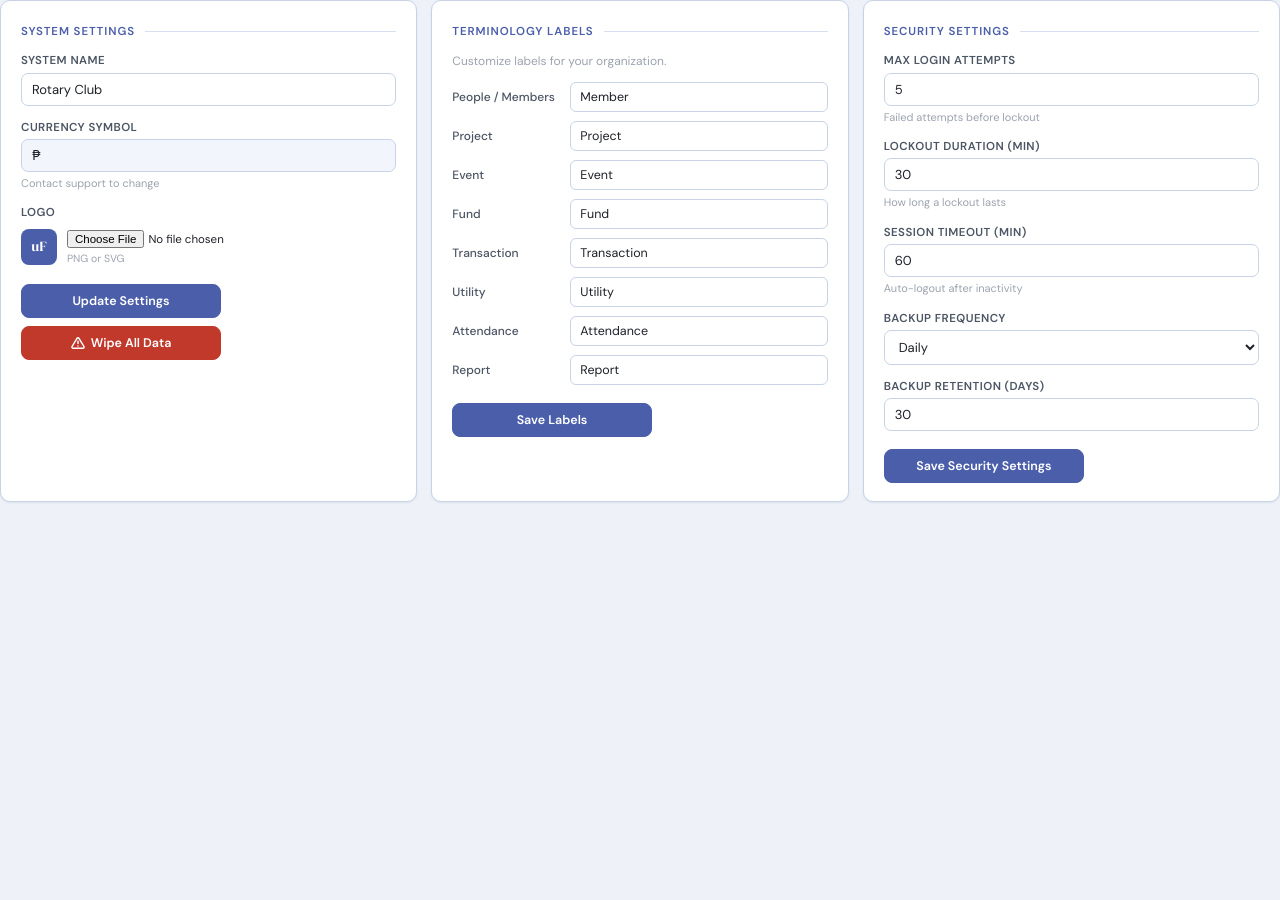
Scenario: Settings › Wipe All Data opens a modal with two options, each ending in feedback
Click the button "Wipe All Data" at (121, 343), box [21, 326, 221, 360]
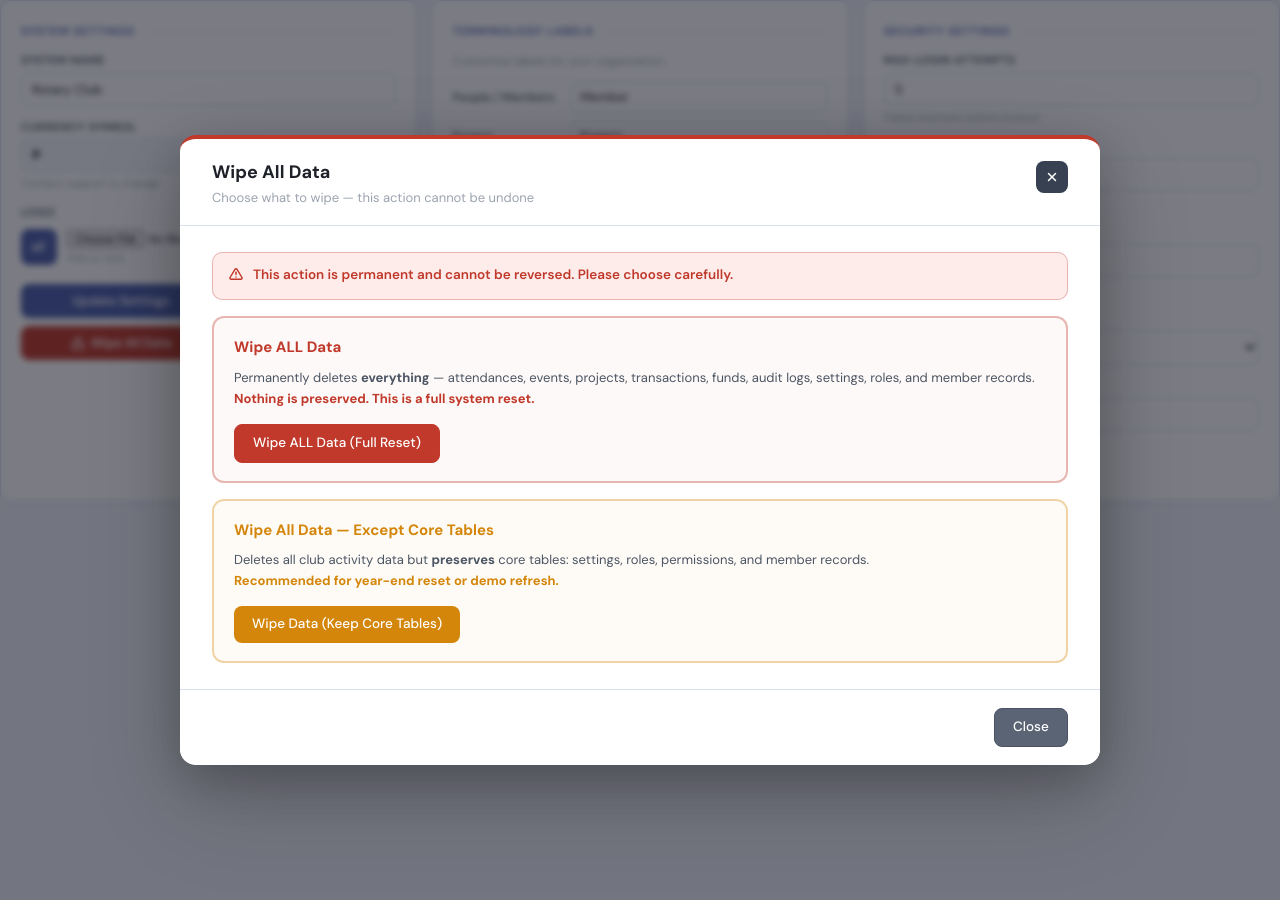
Check: the text "Choose what to wipe — this action cannot be undone" is shown, box [212, 188, 534, 207]
Click the button "Wipe ALL Data (Full Reset)" at (337, 443), box [234, 424, 440, 463]
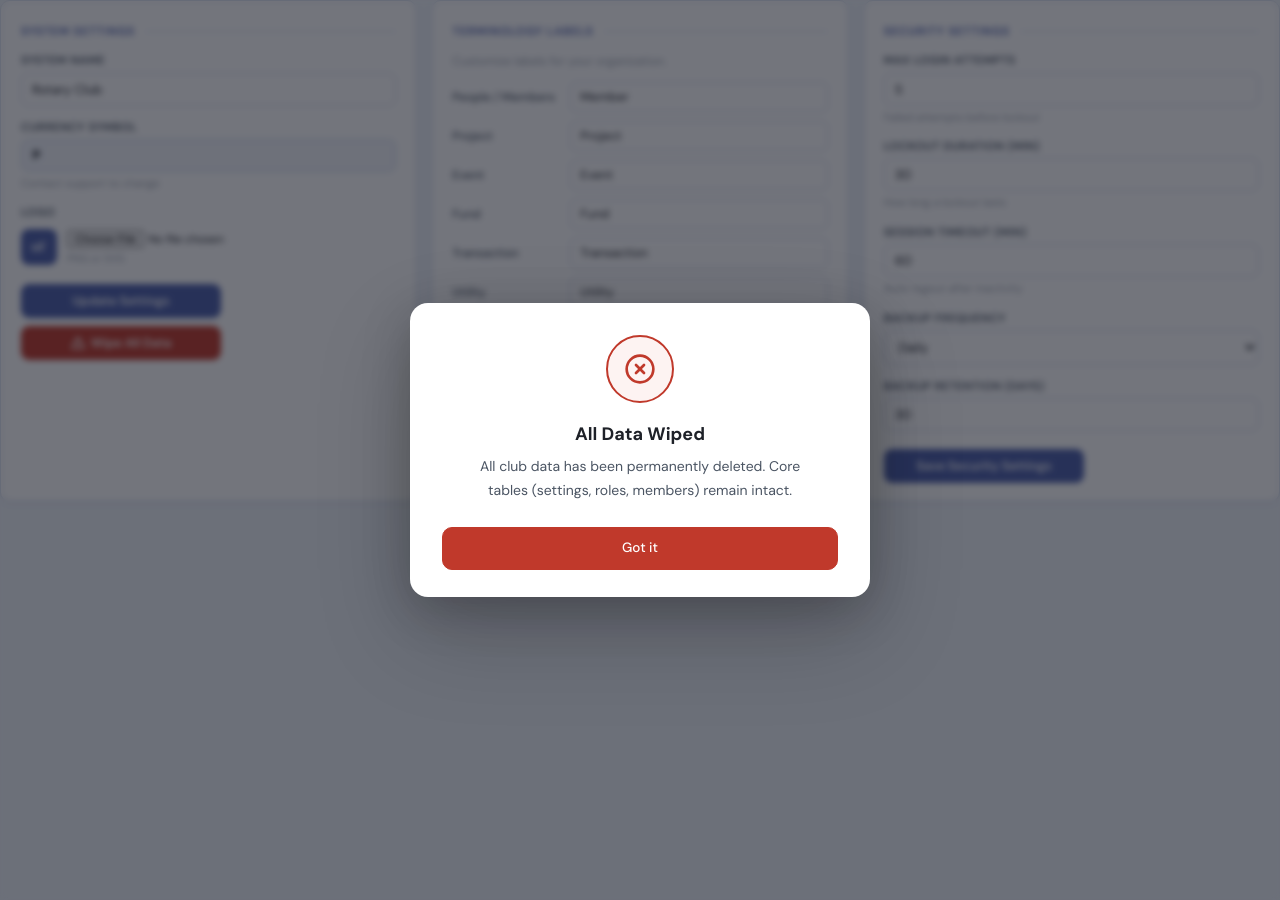
Check: the text "All Data Wiped" is shown, box [575, 422, 705, 446]
Click the button at (640, 548), box [442, 527, 838, 570]
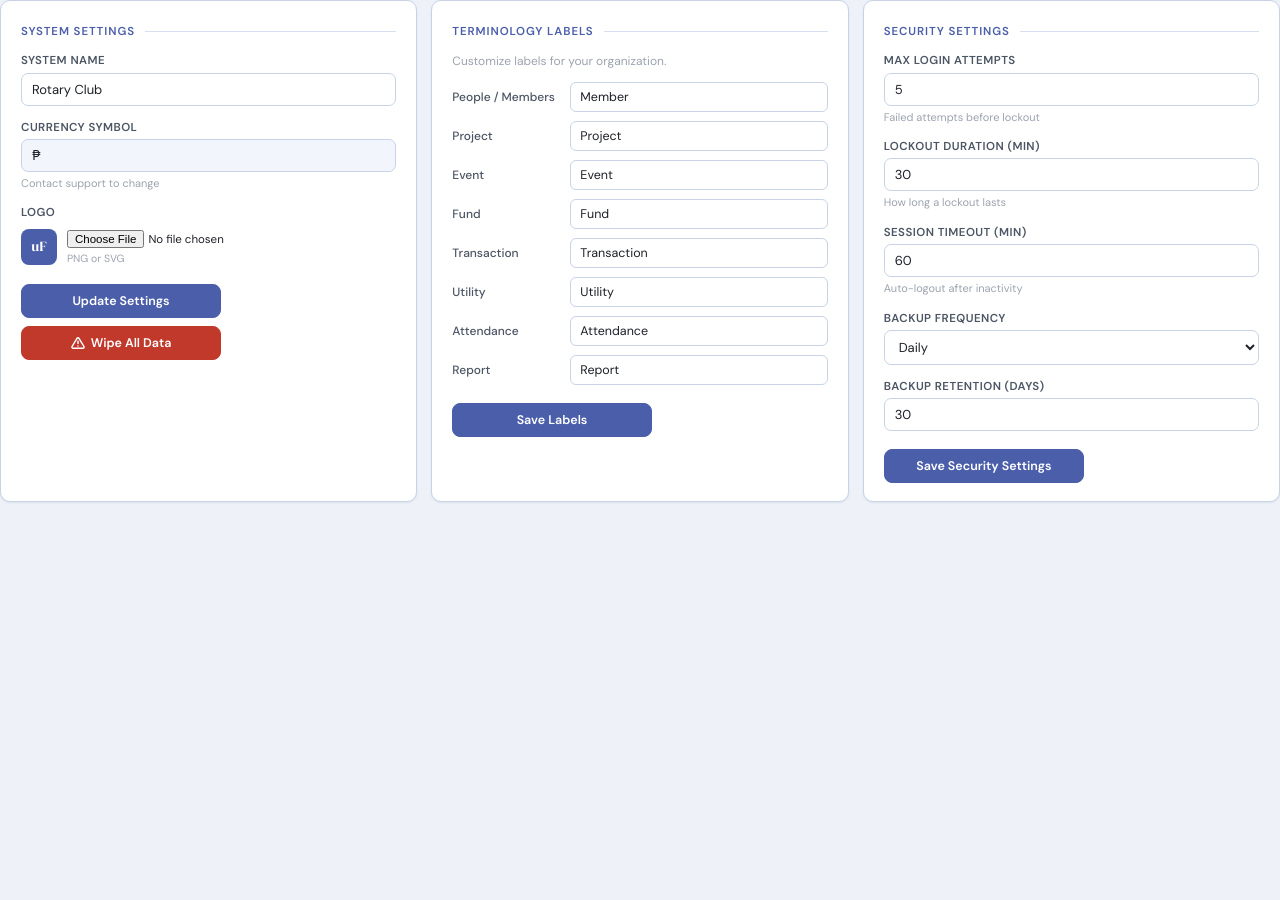
Click the button "Wipe All Data" at (121, 343), box [21, 326, 221, 360]
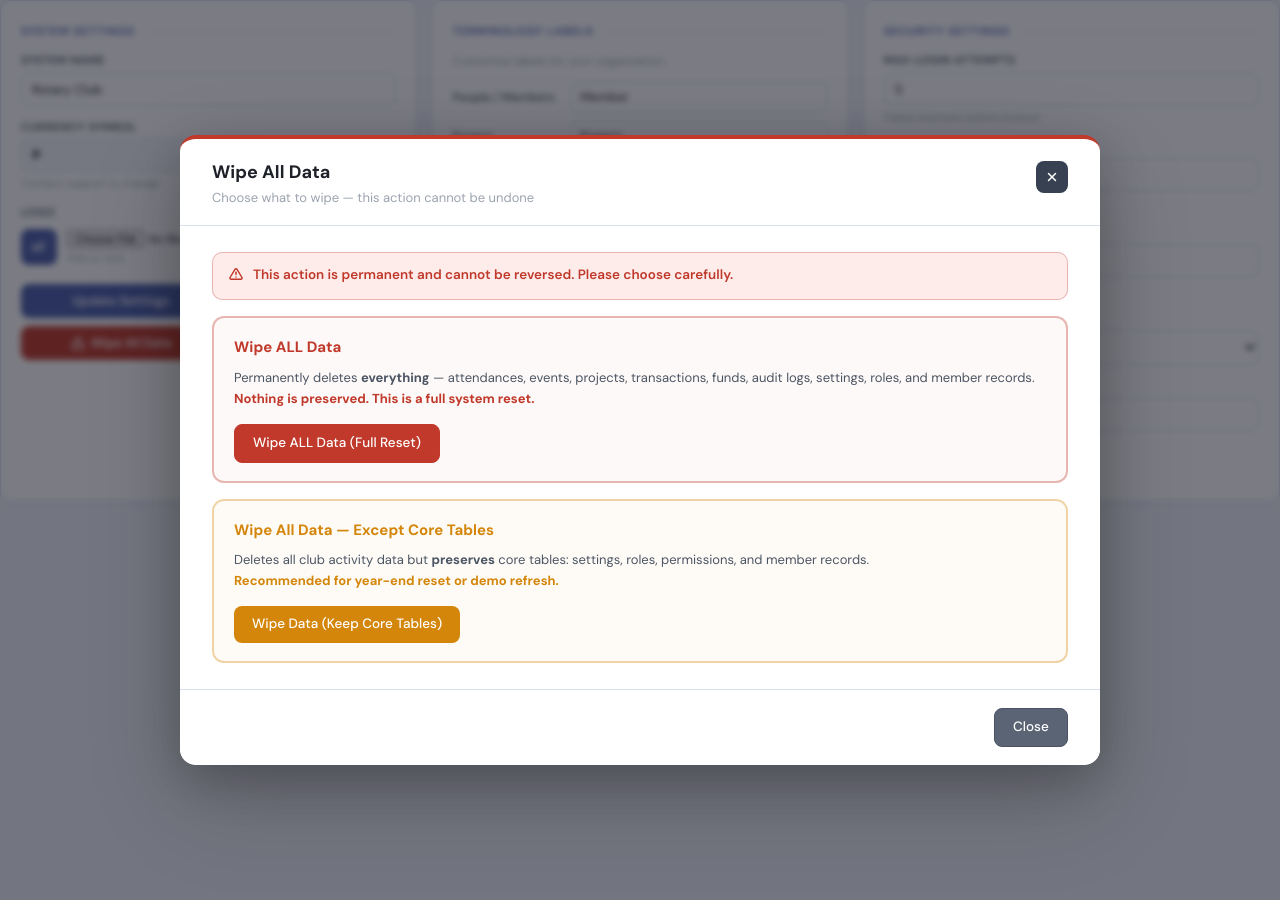
Click the button "Wipe Data (Keep Core Tables)" at (347, 624), box [234, 606, 460, 643]
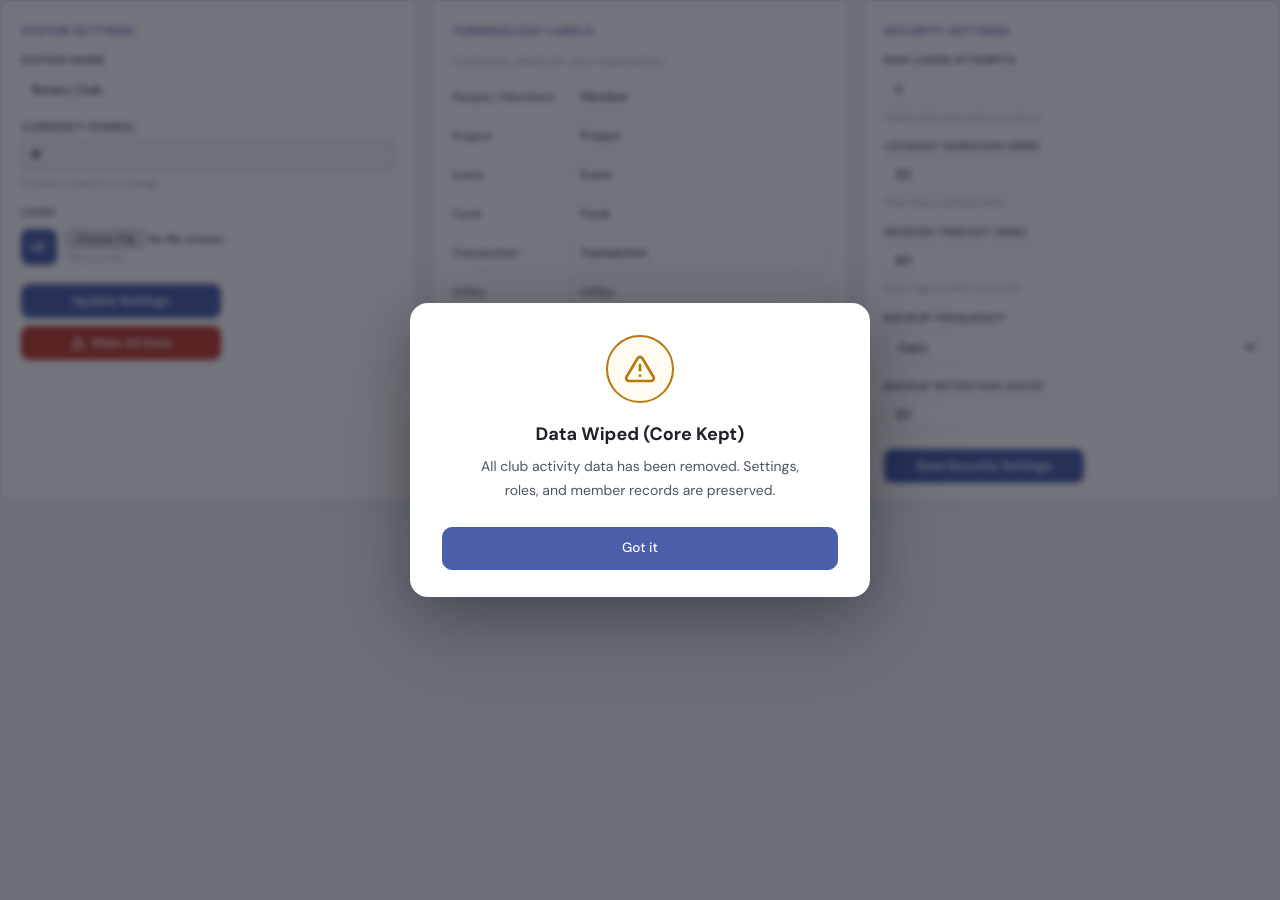
Check: the text "Data Wiped (Core Kept)" is shown, box [536, 422, 744, 446]
